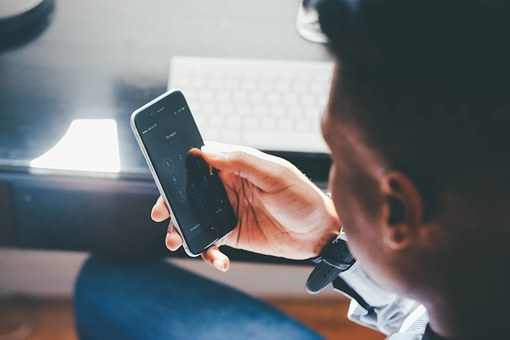mobile: (127, 86, 243, 257)
